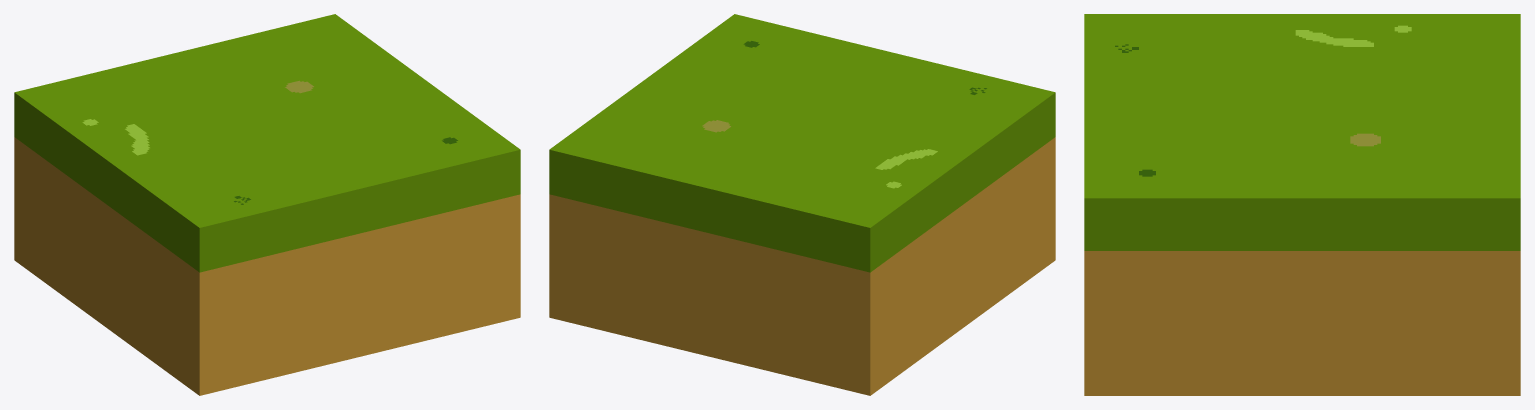
3 renders of one model, left to right at view 1: azimuth 30°, elevation 25°; view 2: azimuth 150°, elevation 25°; view 3: azimuth 270°, elevation 25°, orthographic. The views are drawn at different scales.
Visible parts, largest first — view 1: 11H; view 2: 11H; view 3: 11H.
Part boxes in pixels (x1,y1,x2,y2): 11H: [14, 14, 520, 395]; 11H: [549, 14, 1055, 395]; 11H: [1084, 14, 1520, 395].
Size of the model in its own units: 12.8 by 6.4 by 12.8.
Materials: 1 (1 with a texture image).
